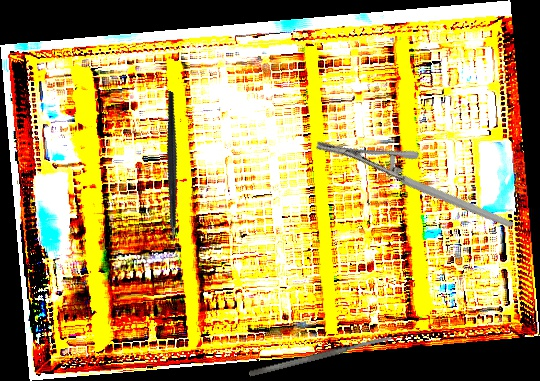Chopper: (119, 90, 232, 254)
Needle Holder: (312, 88, 515, 282)
Spatula Surgical: (248, 334, 393, 378)
